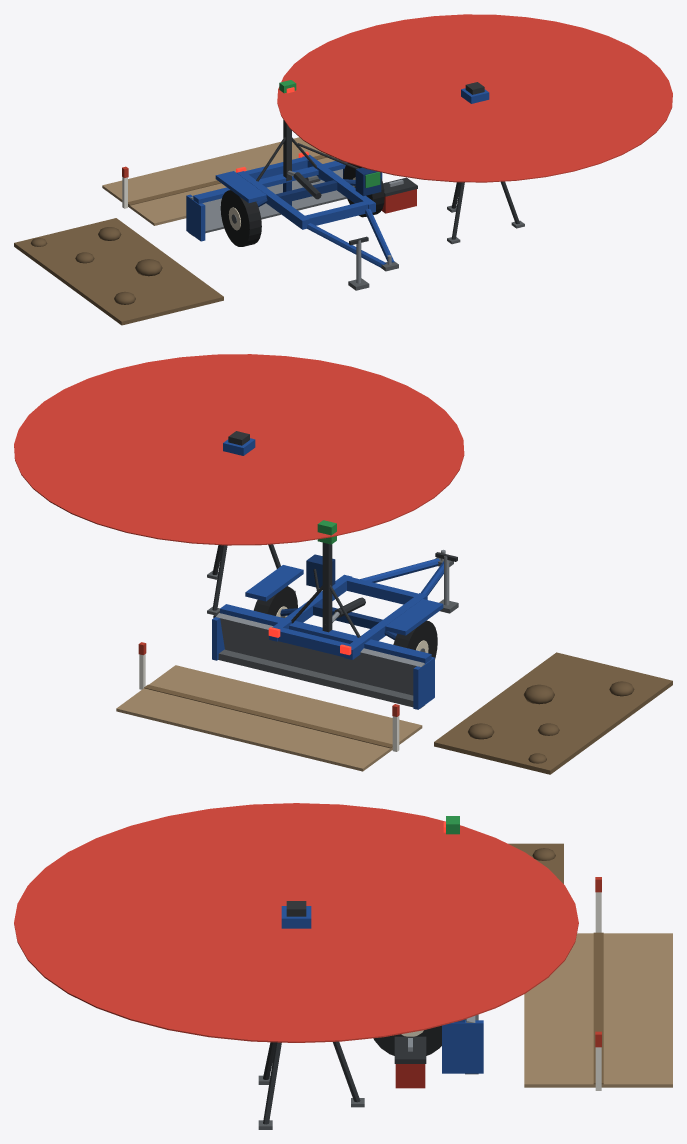
File: laser_leveler.glb
The picture shows the model from 3 angles, top to bottom: view 1: azimuth 30°, elevation 25°; view 2: azimuth 150°, elevation 25°; view 3: azimuth 270°, elevation 25°; orthographic projection. The views are drawn at different scales.
Parts seen in each view (by area): view 1: LaserTripod, LevelFieldProps, LevelerFrame, BladeUnit; view 2: LaserTripod, LevelFieldProps, BladeUnit, LevelerFrame; view 3: LaserTripod, LevelFieldProps, BladeUnit, LevelerFrame.
Part boxes in pixels (x1,y1,x2,y2): LaserTripod: (277, 14, 672, 244); LevelFieldProps: (14, 137, 417, 325); LevelerFrame: (215, 143, 398, 290); BladeUnit: (186, 80, 382, 241); LaserTripod: (14, 354, 464, 614); LevelFieldProps: (116, 611, 672, 774); BladeUnit: (212, 520, 434, 709); LevelerFrame: (245, 549, 458, 659); LaserTripod: (14, 803, 578, 1129); LevelFieldProps: (394, 843, 672, 1090); BladeUnit: (442, 816, 483, 1074); LevelerFrame: (373, 1025, 441, 1055).
Size of the model in its own units: 8.95 by 2.22 by 6.65.
